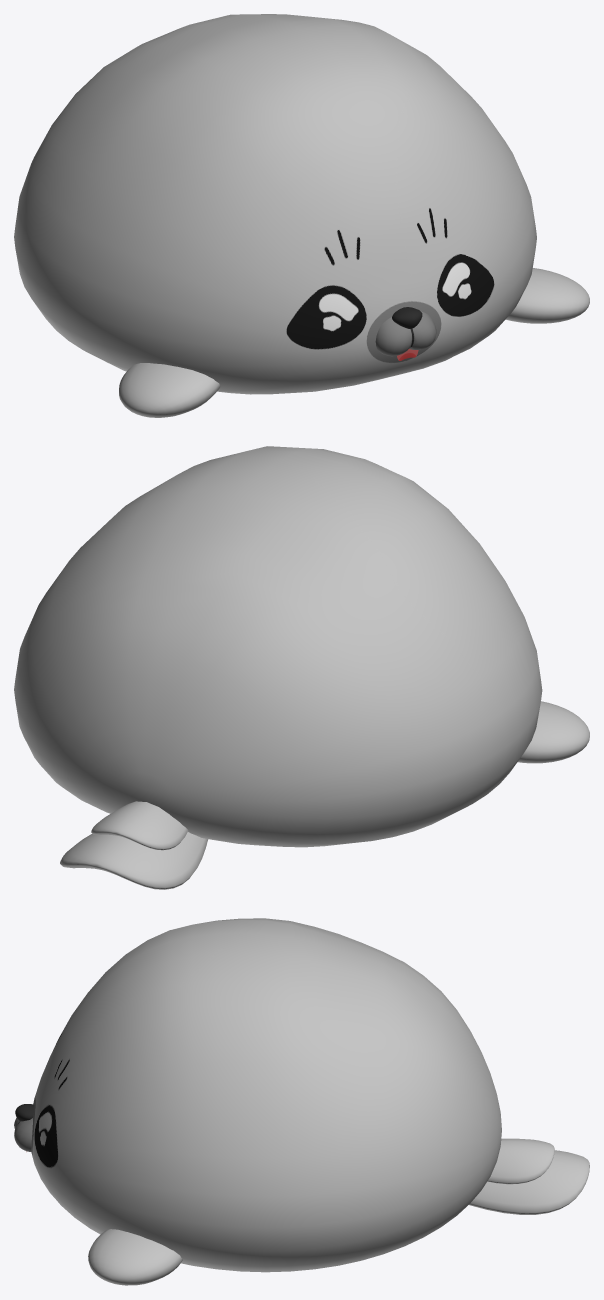
File: Azarashi_shiro_taira.fbx
3 views of the same model, one above another, from view 1: azimuth 30°, elevation 25°; view 2: azimuth 150°, elevation 25°; view 3: azimuth 270°, elevation 25° (orthographic). The views are drawn at different scales.
Parts seen in each view (by area): view 1: body, R_hand, L_hand, mouth; view 2: body, tail, R_hand; view 3: body, tail, L_hand, mouth.
Boxes of the visible parts, x1,y1,x2,y2 form: body: (14,14,536,394); R_hand: (119,363,220,417); L_hand: (506,268,589,323); mouth: (375,311,436,360); body: (14,446,542,847); tail: (60,801,208,889); R_hand: (517,701,589,763); body: (31,918,501,1272); tail: (469,1138,589,1214); L_hand: (88,1229,182,1285); mouth: (14,1117,32,1151).
Bounding box in the file's own units: 163 × 97.55 × 197.
